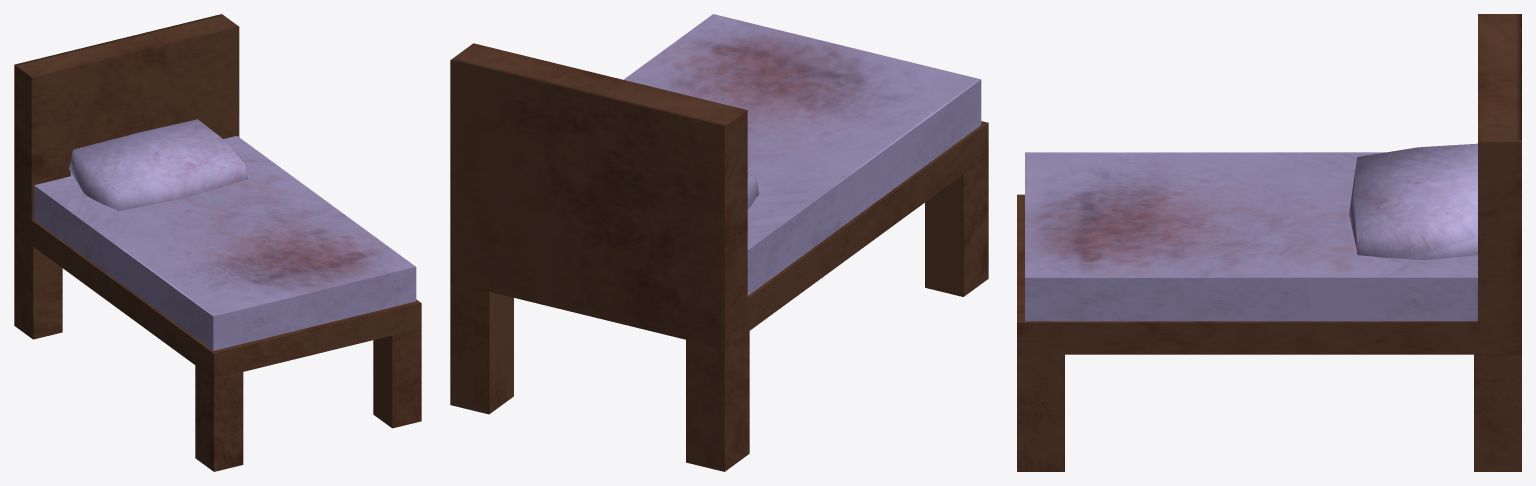
Rendered from cama.glb.
3 renders of one model, left to right at view 1: azimuth 30°, elevation 25°; view 2: azimuth 150°, elevation 25°; view 3: azimuth 270°, elevation 25°, orthographic. The views are drawn at different scales.
Visible parts, largest first — view 1: Cube.017; view 2: Cube.017; view 3: Cube.017.
Part boxes in pixels (x1,y1,x2,y2): Cube.017: [14, 14, 421, 471]; Cube.017: [450, 14, 988, 471]; Cube.017: [1017, 14, 1521, 471].
Bounding box in the file's own units: 1.2 × 1.44 × 2.
2 materials, 2 textured.
